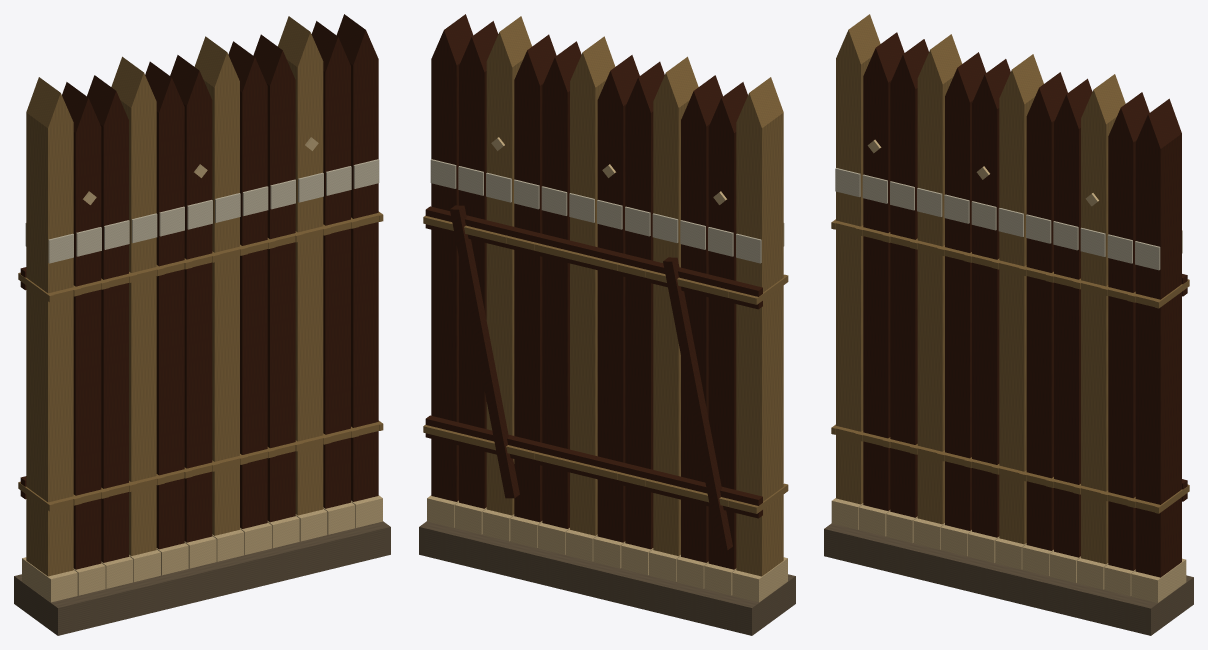
Rendered from Berber_Palisade_Age4_straight_3m.fbx.
3 views of the same model, side by side, from view 1: azimuth 30°, elevation 25°; view 2: azimuth 150°, elevation 25°; view 3: azimuth 330°, elevation 25° (orthographic).
Visible parts, largest first — view 1: palm_split_post.008, palm_split_post.005, palm_split_post.011, palm_split_post.006, palm_split_post.004, earth_seat.001, palm_split_post.013, palm_split_post.007, palm_split_post.010, post_earth_socket.001, neutral_owner_band.001, front_lashing.001 (+1 smaller); view 2: palm_split_post.008, palm_split_post.011, palm_split_post.005, palm_split_post.004, palm_split_post.006, earth_seat.001, palm_split_post.010, palm_split_post.007, palm_split_post.013, continuous_rear_tie.001, post_earth_socket.001, back_diagonal_brace.001 (+3 smaller); view 3: palm_split_post.011, palm_split_post.006, palm_split_post.005, palm_split_post.008, earth_seat.001, palm_split_post.007, palm_split_post.004, palm_split_post.010, palm_split_post.013, post_earth_socket.001, neutral_owner_band.001, front_lashing.001 (+1 smaller).
Part boxes in pixels (left/top/right/bottom): palm_split_post.008: left=145, top=34, right=295, bottom=549; palm_split_post.005: left=62, top=55, right=212, bottom=569; palm_split_post.011: left=228, top=14, right=378, bottom=528; palm_split_post.006: left=87, top=21, right=350, bottom=562; palm_split_post.004: left=26, top=77, right=73, bottom=576; earth_seat.001: left=14, top=521, right=390, bottom=635; palm_split_post.013: left=278, top=16, right=323, bottom=515; palm_split_post.007: left=111, top=56, right=156, bottom=556; palm_split_post.010: left=194, top=36, right=239, bottom=535; post_earth_socket.001: left=22, top=495, right=382, bottom=602; neutral_owner_band.001: left=25, top=159, right=379, bottom=263; front_lashing.001: left=48, top=212, right=381, bottom=509; palm_split_post.008: left=514, top=34, right=664, bottom=549; palm_split_post.011: left=431, top=14, right=581, bottom=528; palm_split_post.005: left=597, top=55, right=747, bottom=569; palm_split_post.004: left=736, top=77, right=783, bottom=576; palm_split_post.006: left=459, top=21, right=722, bottom=562; earth_seat.001: left=419, top=521, right=795, bottom=635; palm_split_post.010: left=570, top=36, right=615, bottom=535; palm_split_post.007: left=653, top=56, right=698, bottom=556; palm_split_post.013: left=486, top=16, right=531, bottom=515; continuous_rear_tie.001: left=425, top=206, right=762, bottom=518; post_earth_socket.001: left=427, top=495, right=787, bottom=602; back_diagonal_brace.001: left=450, top=205, right=732, bottom=550; palm_split_post.011: left=1026, top=72, right=1181, bottom=577; palm_split_post.006: left=890, top=39, right=1149, bottom=570; palm_split_post.005: left=863, top=32, right=1010, bottom=537; palm_split_post.008: left=945, top=52, right=1092, bottom=557; earth_seat.001: left=824, top=523, right=1193, bottom=635; palm_split_post.007: left=917, top=34, right=962, bottom=524; palm_split_post.004: left=836, top=14, right=880, bottom=504; palm_split_post.010: left=999, top=54, right=1043, bottom=544; palm_split_post.013: left=1081, top=74, right=1125, bottom=564; post_earth_socket.001: left=831, top=498, right=1186, bottom=602; neutral_owner_band.001: left=835, top=168, right=1182, bottom=270; front_lashing.001: left=834, top=221, right=1157, bottom=512.
Bounding box in the file's own units: 301 × 458 × 68.29.
5 materials, 5 textured.
